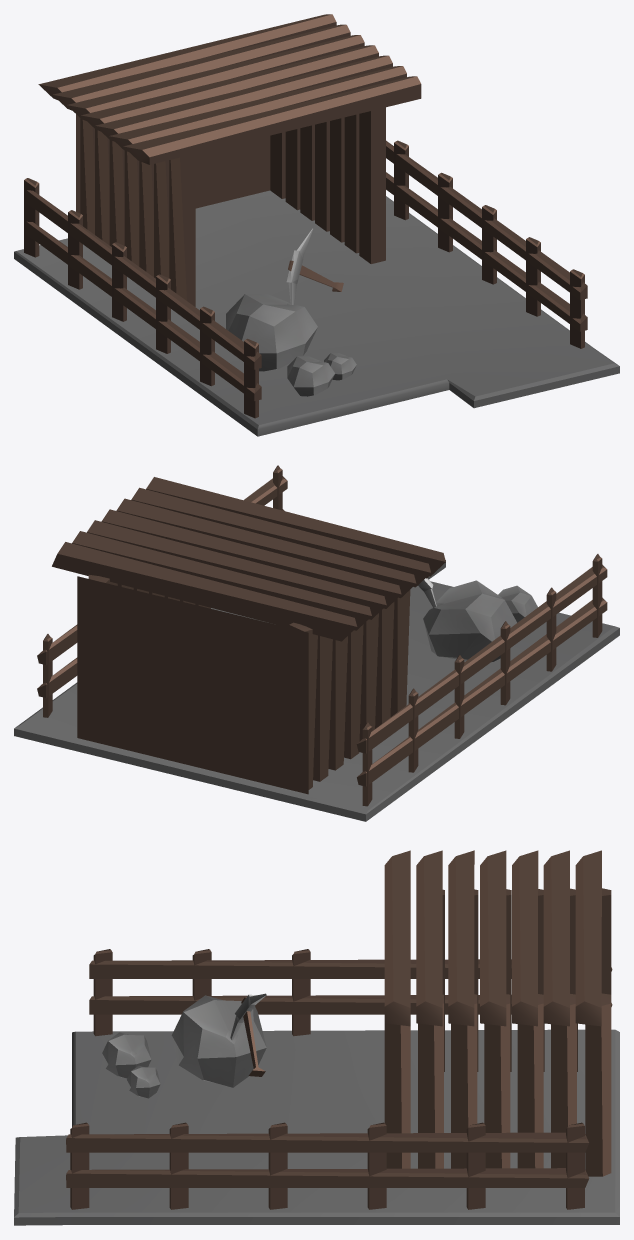
Rendered from mine_0lvl.fbx.
3 views of the same model, one above another, from view 1: azimuth 30°, elevation 25°; view 2: azimuth 150°, elevation 25°; view 3: azimuth 270°, elevation 25° (orthographic). The views are drawn at different scales.
Visible parts, largest first — view 1: mine_0lvl; view 2: mine_0lvl; view 3: mine_0lvl.
Part boxes in pixels (x1,y1,x2,y2): mine_0lvl: [14, 14, 619, 436]; mine_0lvl: [14, 465, 619, 821]; mine_0lvl: [14, 850, 619, 1225].
Size of the model in its own units: 398 by 206 by 550.
